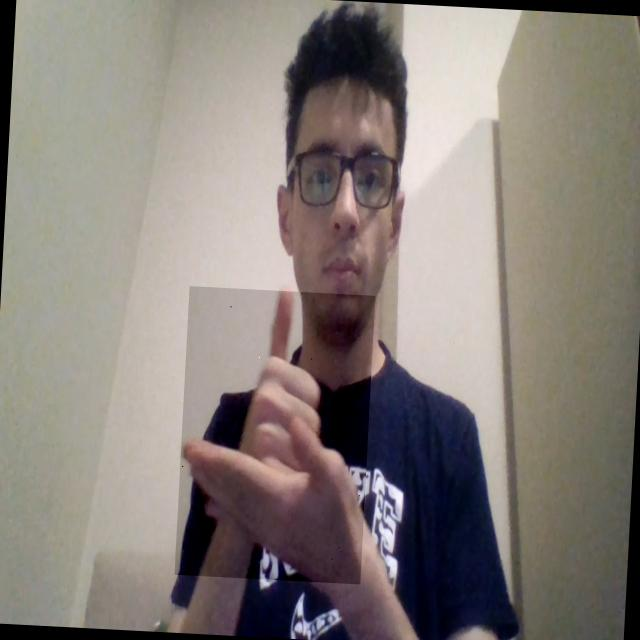help: (174, 287, 376, 586)
